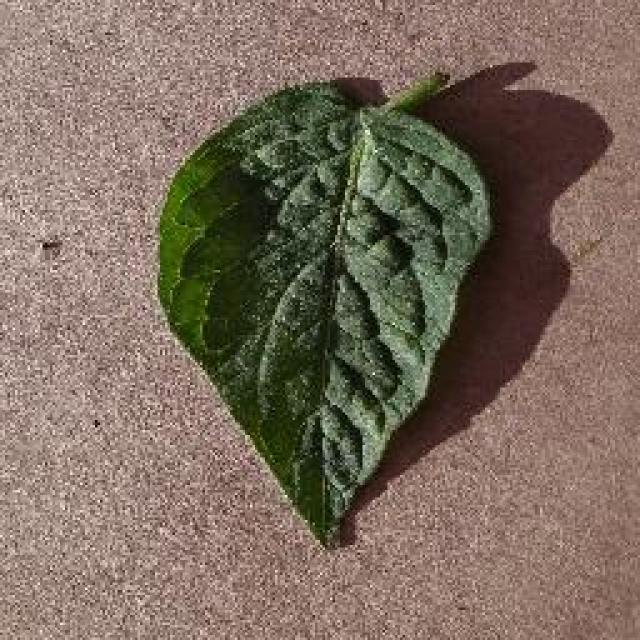Tomato___Spider_mites Two-spotted_spider_mite: (158, 72, 490, 545)
